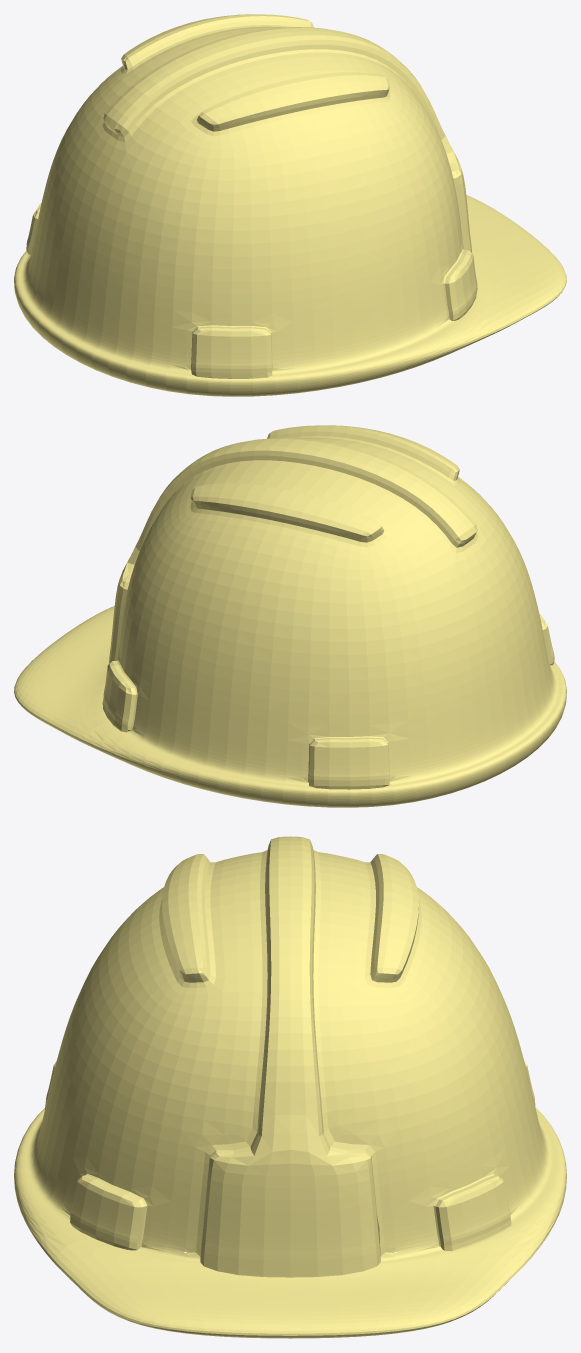
File: Hardhat.glb
3 views of the same model, one above another, from view 1: azimuth 30°, elevation 25°; view 2: azimuth 150°, elevation 25°; view 3: azimuth 270°, elevation 25° (orthographic). The views are drawn at different scales.
Visible parts, largest first — view 1: Cube; view 2: Cube; view 3: Cube.
Part boxes in pixels (box(x1,y1,x2,y2)): Cube: box(14, 14, 566, 396); Cube: box(14, 425, 566, 807); Cube: box(14, 836, 566, 1338).
Bounding box in the file's own units: 300 × 161 × 256.
